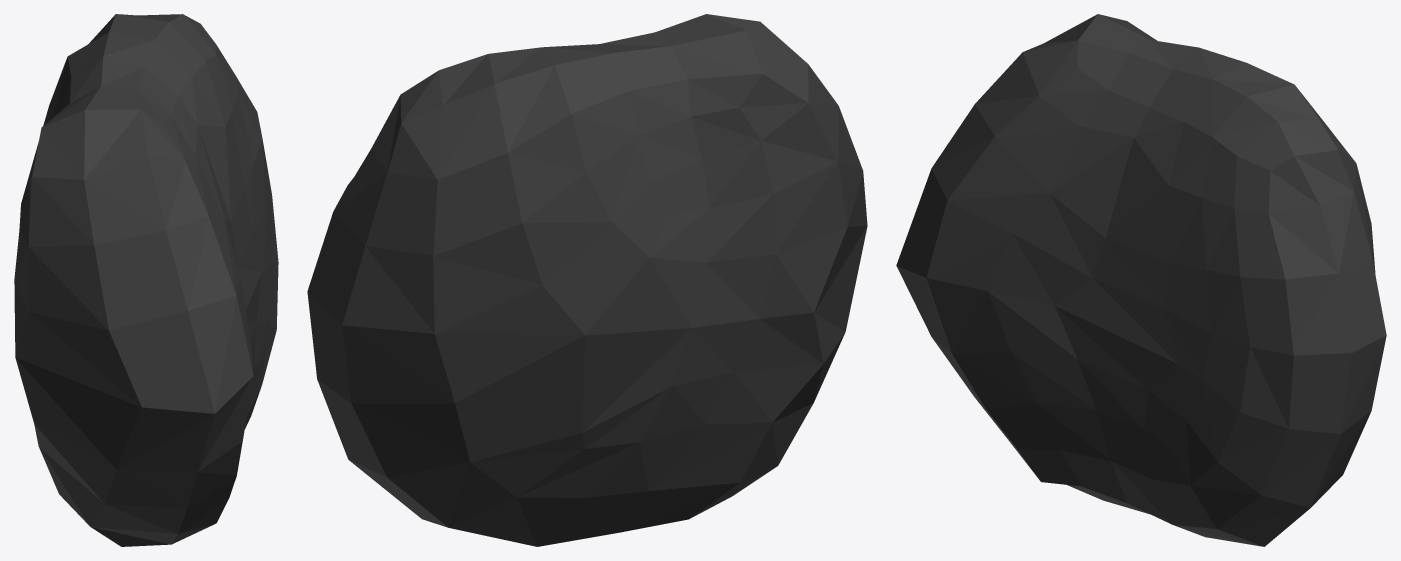
The model's file is RFL_carpal7.glb.
The picture shows the model from 3 angles, left to right: view 1: azimuth 30°, elevation 25°; view 2: azimuth 150°, elevation 25°; view 3: azimuth 270°, elevation 25°; orthographic projection. The views are drawn at different scales.
Visible parts, largest first — view 1: RFL_carpal7; view 2: RFL_carpal7; view 3: RFL_carpal7.
Part boxes in pixels (<box>): RFL_carpal7: <box>14,14,278,546</box>; RFL_carpal7: <box>307,14,867,546</box>; RFL_carpal7: <box>896,14,1386,546</box>.
Size of the model in its own units: 4.73 by 5.71 by 5.67.
Materials: 1 (1 with a texture image).
